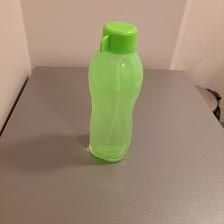bottle: (85, 19, 145, 161)
